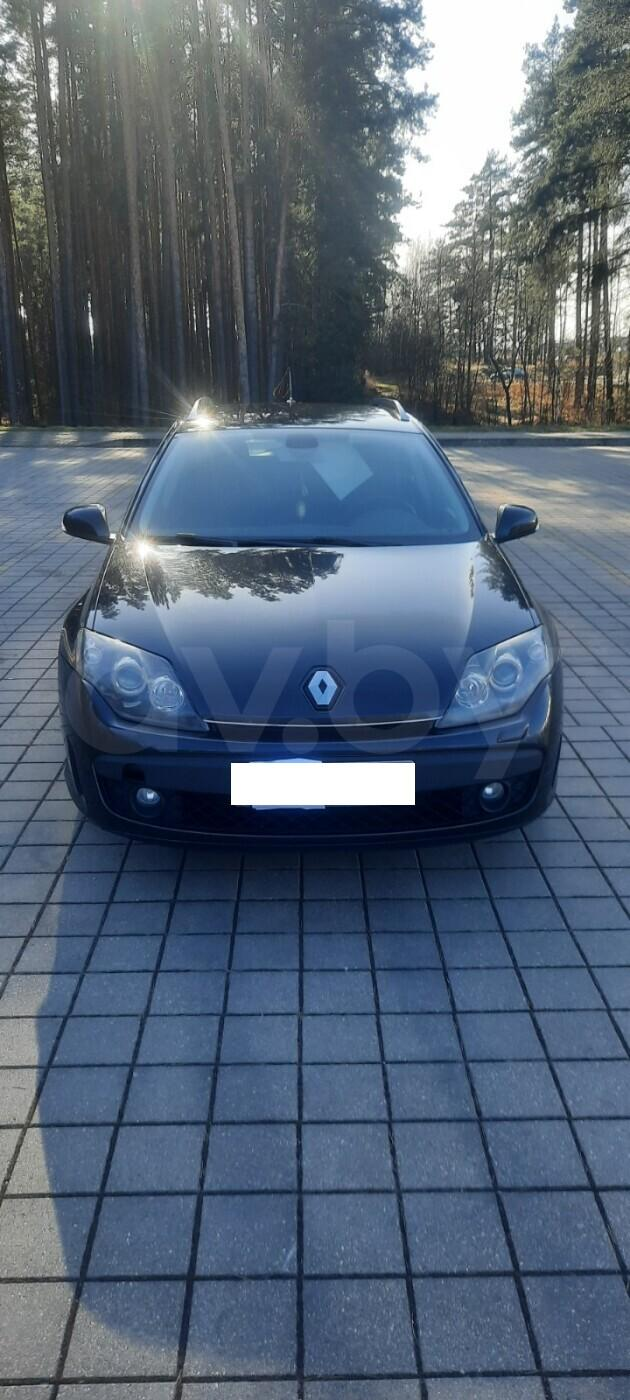Laguna_2007-2011: (58, 400, 562, 846)
